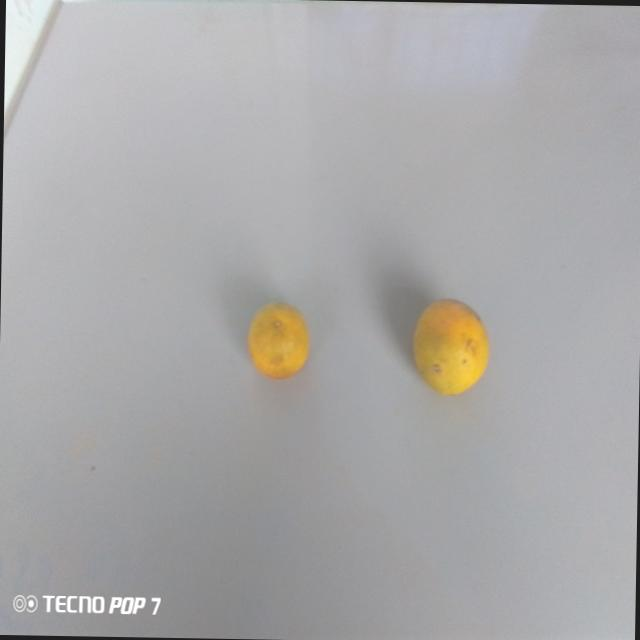Ripe orange: (402, 294, 500, 406), (238, 296, 315, 386)
